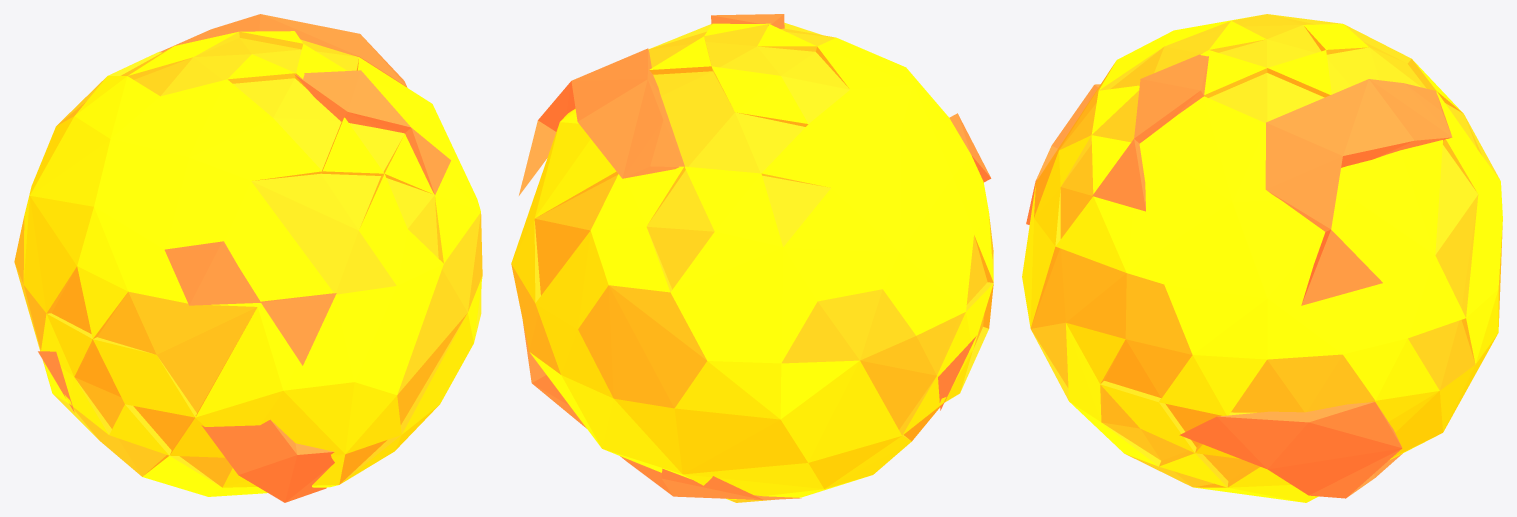
File: sun.glb
3 renders of one model, left to right at view 1: azimuth 30°, elevation 25°; view 2: azimuth 150°, elevation 25°; view 3: azimuth 270°, elevation 25°, orthographic. The views are drawn at different scales.
Parts seen in each view (by area): view 1: star9; view 2: star9; view 3: star9.
Boxes of the visible parts, bbox=[...] form: star9: bbox=[14, 14, 482, 502]; star9: bbox=[511, 14, 993, 502]; star9: bbox=[1022, 14, 1502, 502].
Bounding box in the file's own units: 7.36 × 7.43 × 7.24.
Materials: 1 (1 with a texture image).
